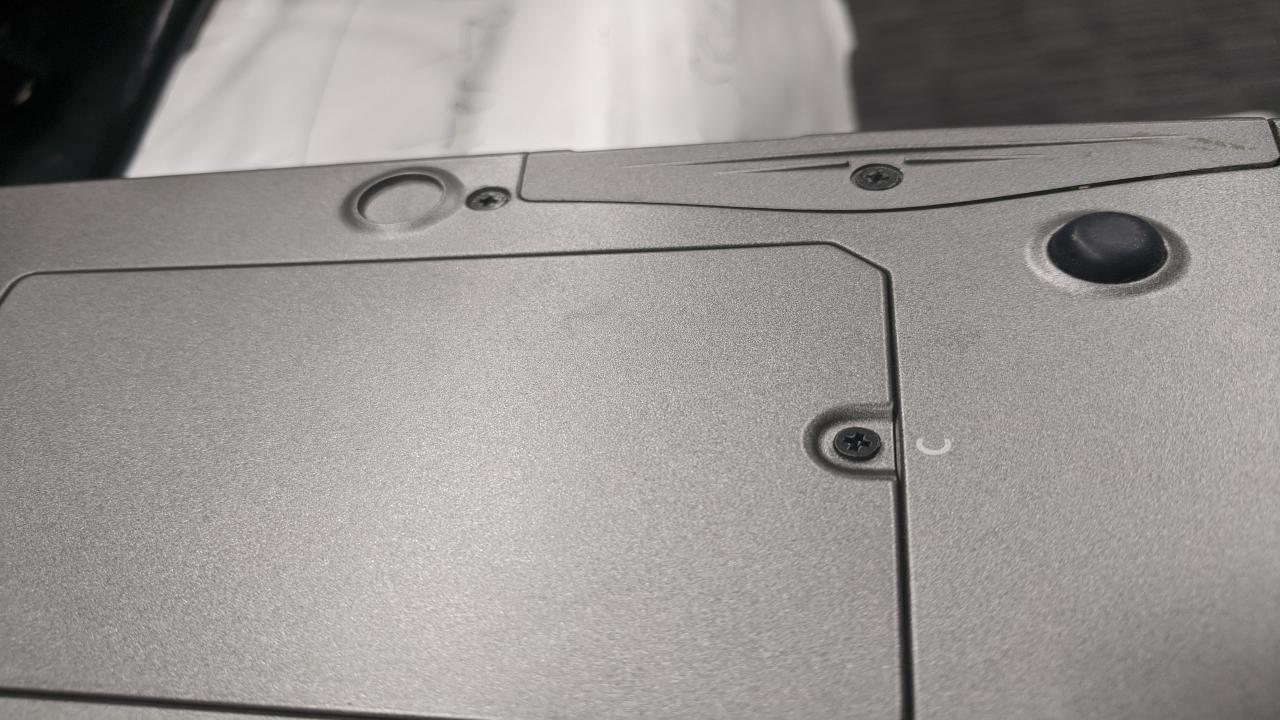CRS: (829, 423, 892, 465), (848, 162, 906, 195), (462, 184, 514, 216)
